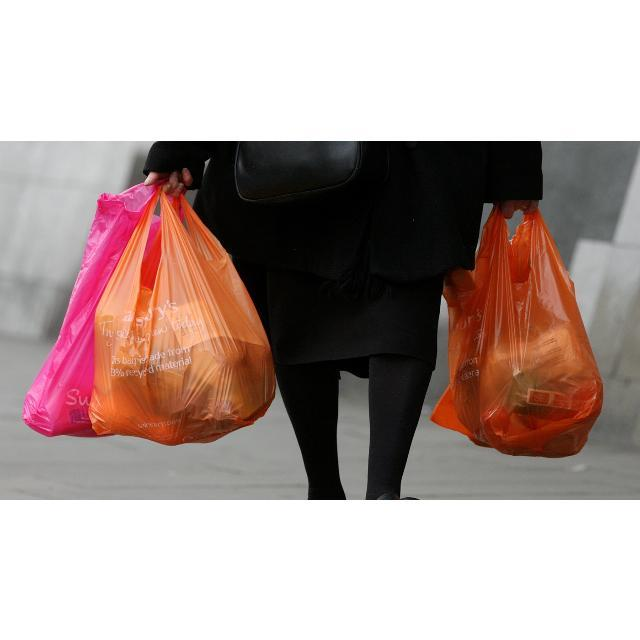Single-layer Plastic: (89, 191, 275, 444), (431, 209, 602, 457), (24, 185, 155, 436)
